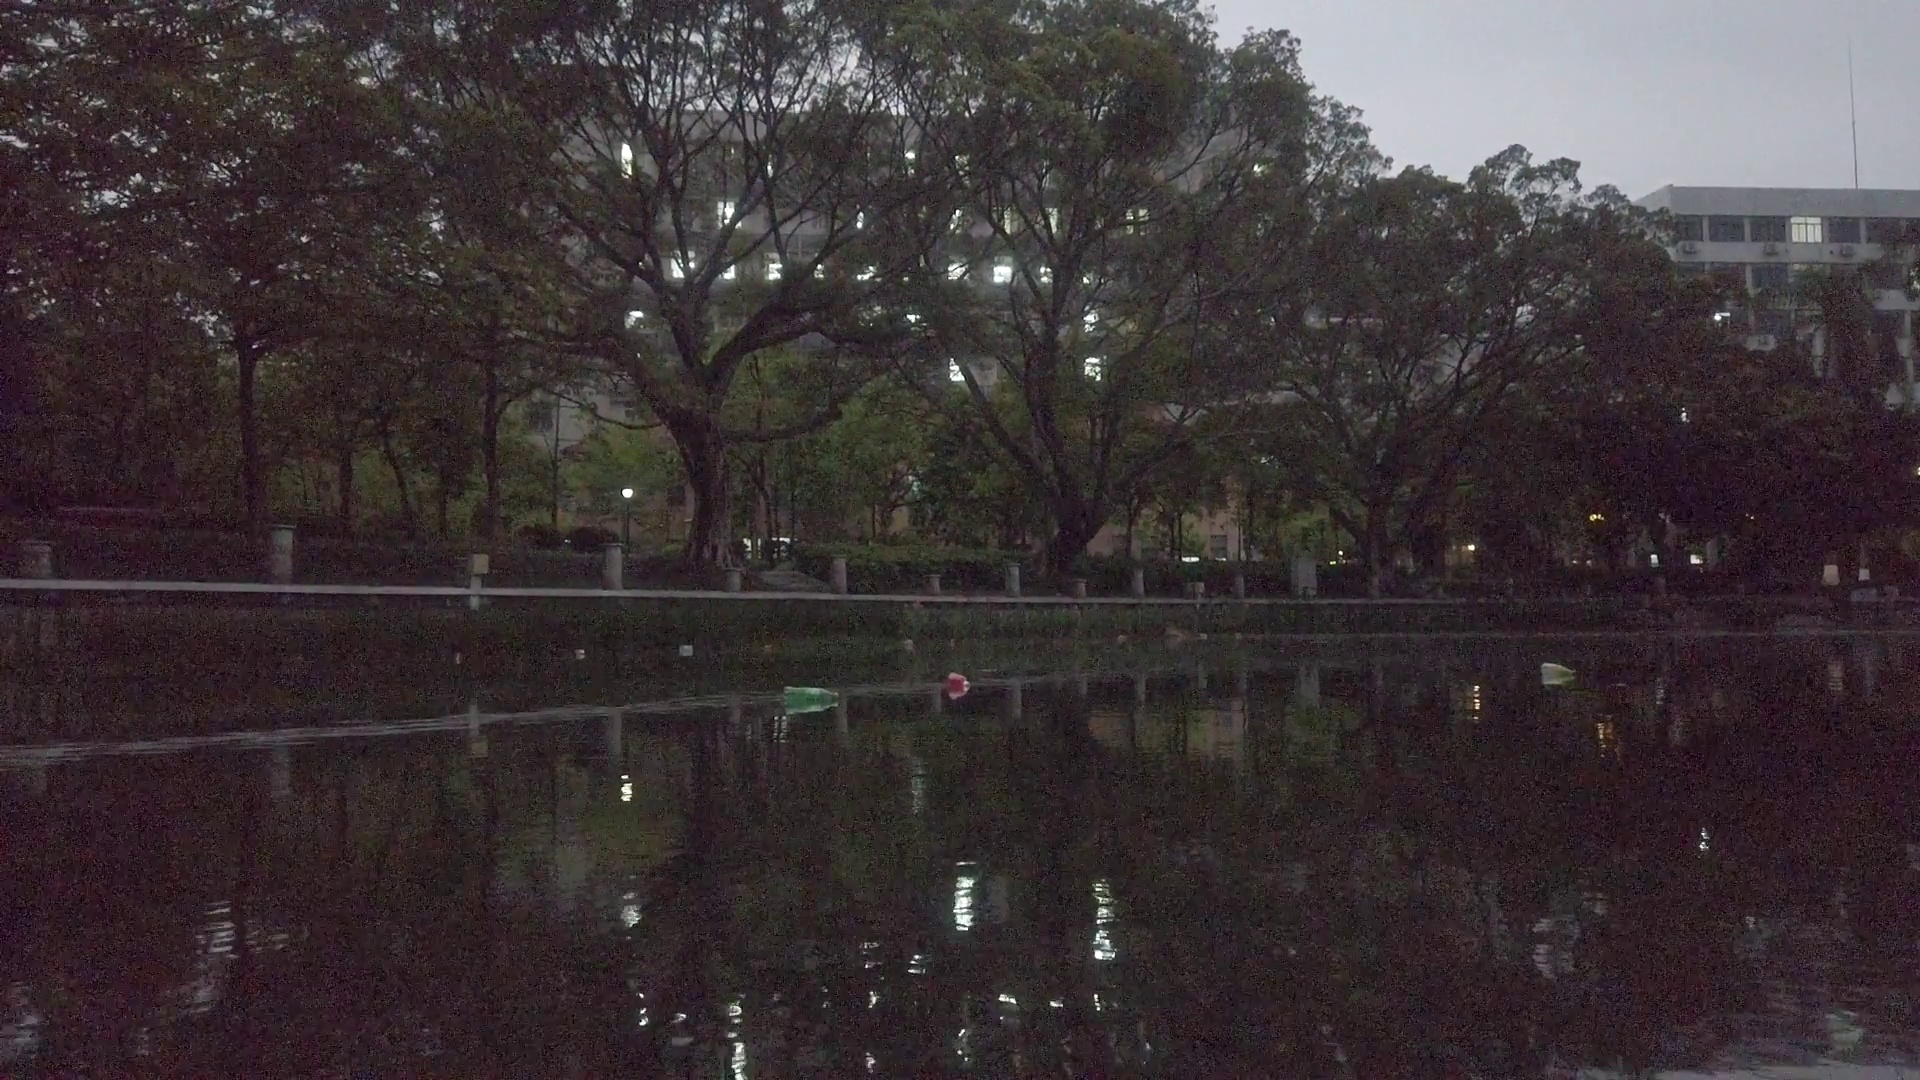bottle: (783, 684, 843, 705), (1538, 663, 1576, 680), (947, 671, 975, 694), (760, 640, 777, 655), (899, 638, 915, 655), (568, 647, 588, 658)
carton: (676, 644, 696, 658)
